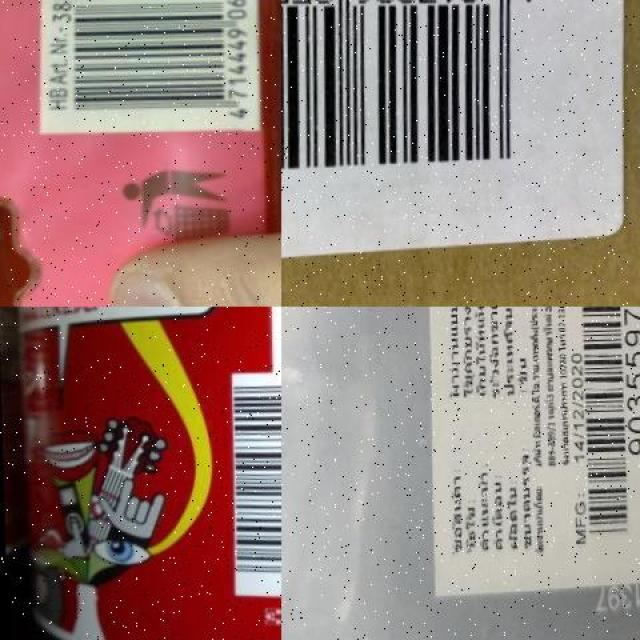Barcode: (281, 0, 568, 200), (29, 0, 260, 139), (570, 306, 640, 546), (226, 369, 282, 603)
